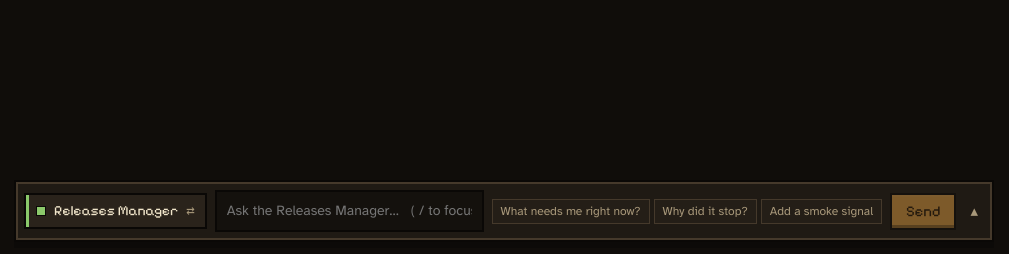
A manager's answer › shows the conversation, and a note that the manager is thinking while it works
Click the button named "Show conversation" at point(974, 211), box [964, 199, 984, 224]
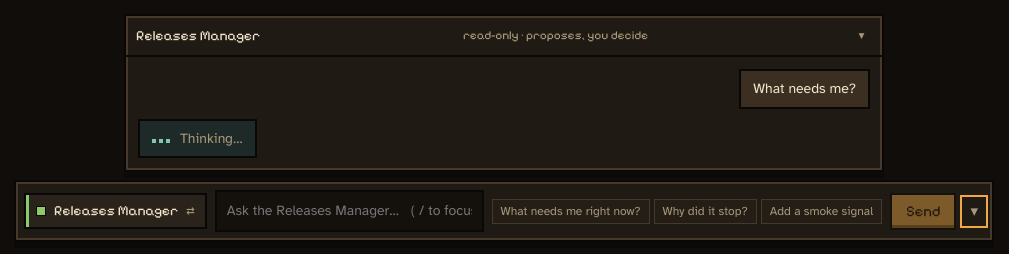
Expected: the text "Thinking…" is shown, [152, 129, 243, 148]
